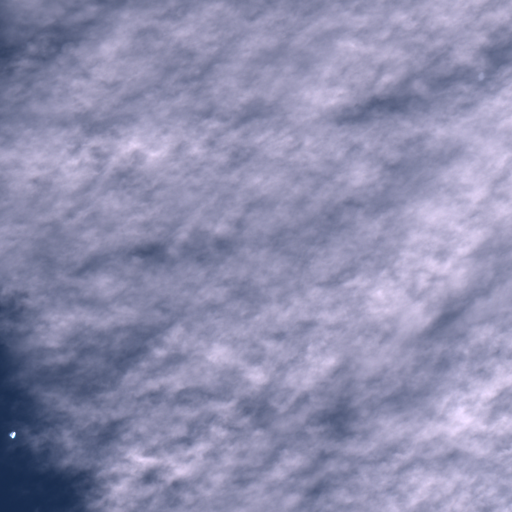Iceberg: (9, 431, 15, 438)
